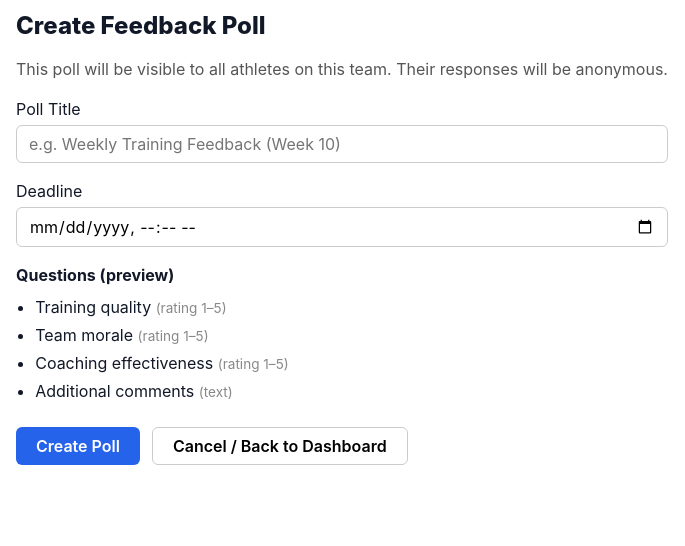
Test: CreateFeedbackPoll - coach creates a new poll › shows error if coach is not a coach of any team
填 title & deadline
In the field labelled "Poll Title": {"x": 342, "y": 144} [16, 125, 668, 163], type "Weekly Training Feedback"
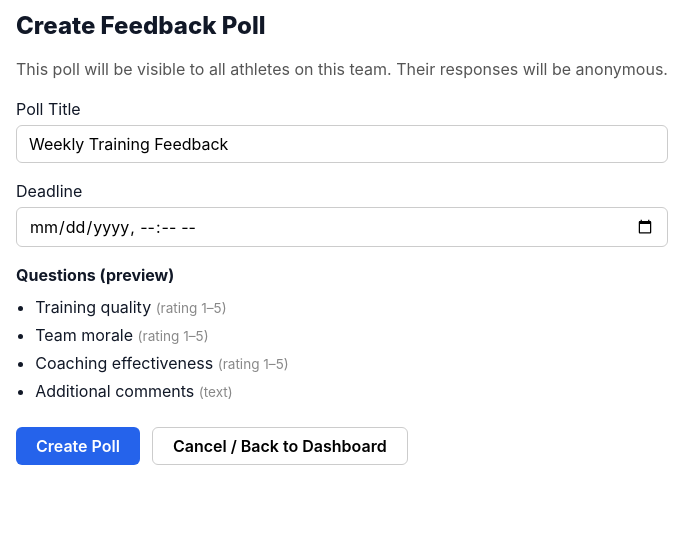
In the field labelled "Deadline": {"x": 342, "y": 227} [16, 207, 668, 247], type "2025-11-30T12:00"
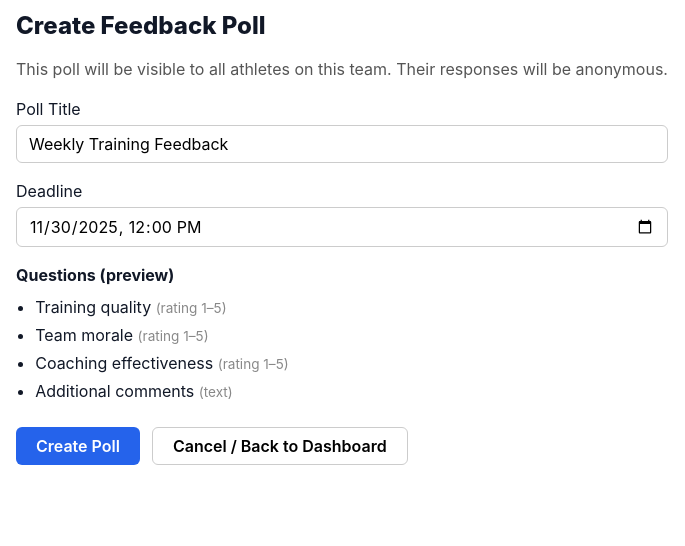
Click the button "Create Poll": {"x": 78, "y": 446} [16, 427, 140, 465]
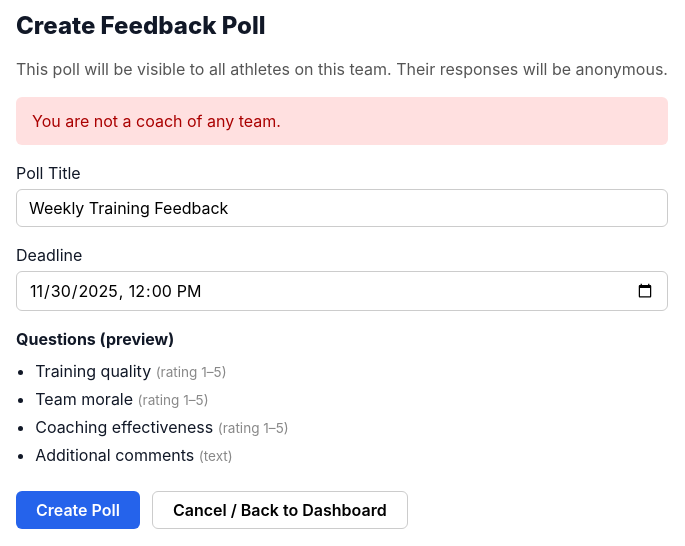
Check: the text "You are not a coach of any team." is shown, box [16, 97, 668, 145]
